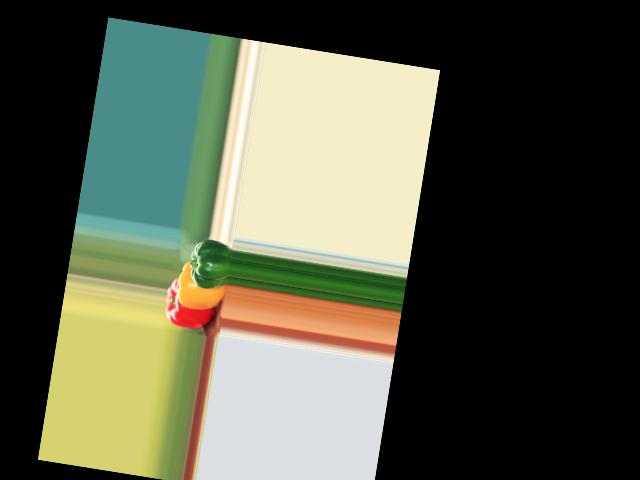bell_pepper: (162, 276, 224, 332)
